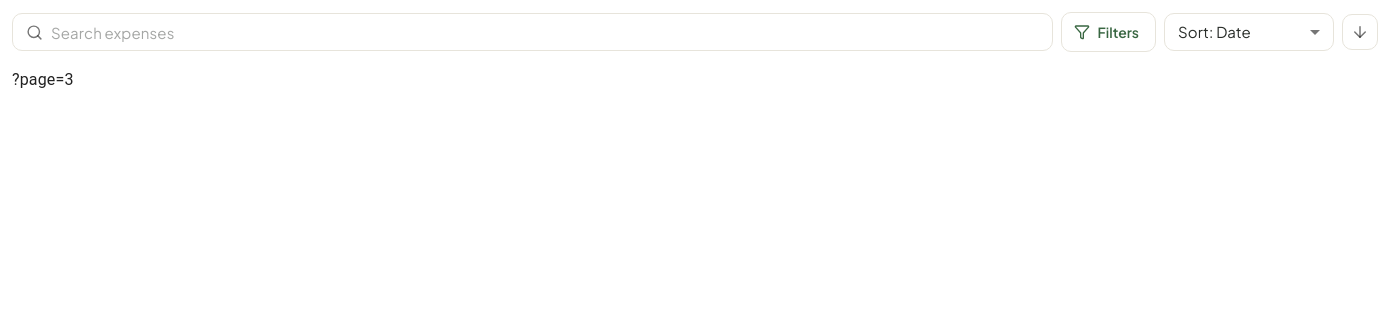
Test: ExpenseFilters › writes search and toggles into the URL and resets pagination
Step 1. Type "taxi" into the field labelled "Search expenses" → (552, 32), box [51, 13, 1053, 51]
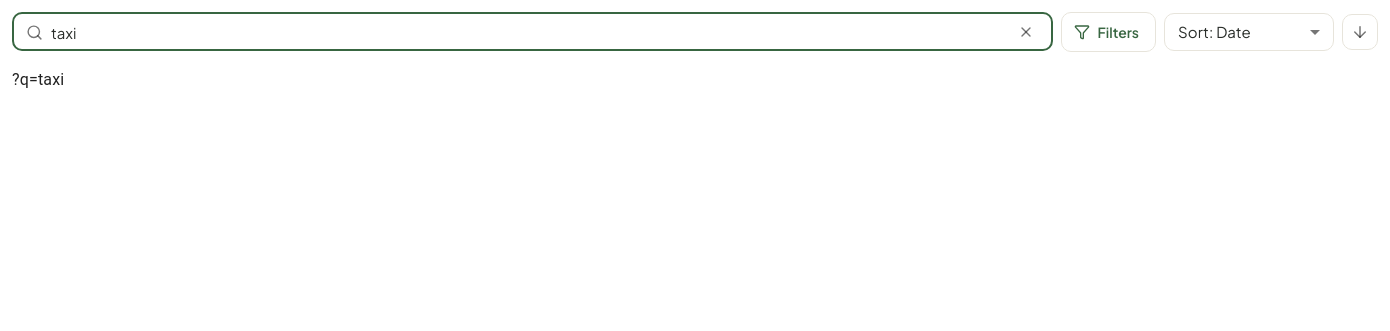
Expected: the text with test id "search" shows "q=taxi", [12, 70, 64, 89]
Expected: the text with test id "search" no longer shows "page=", [12, 70, 64, 89]
Step 2. Click the button "Filters" → (1108, 32), box [1061, 12, 1156, 52]
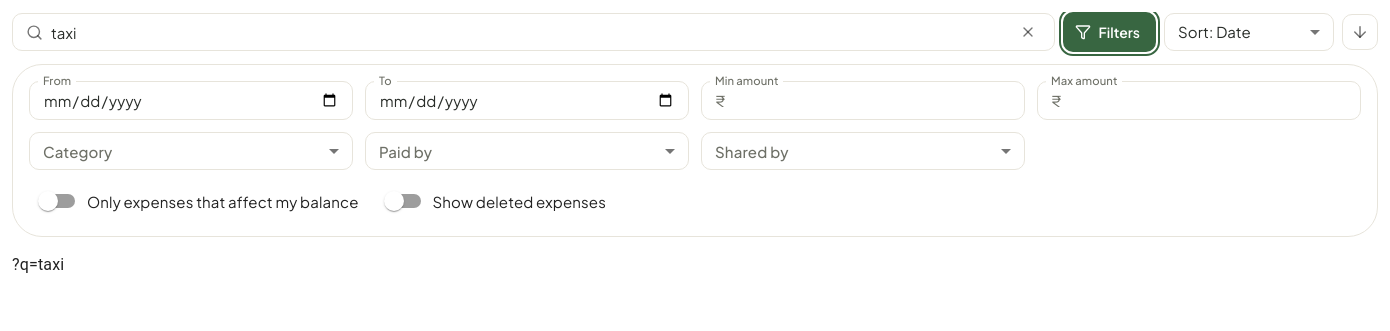
Step 3. Click the switch labelled "Show deleted expenses" → (495, 201), box [384, 191, 606, 211]
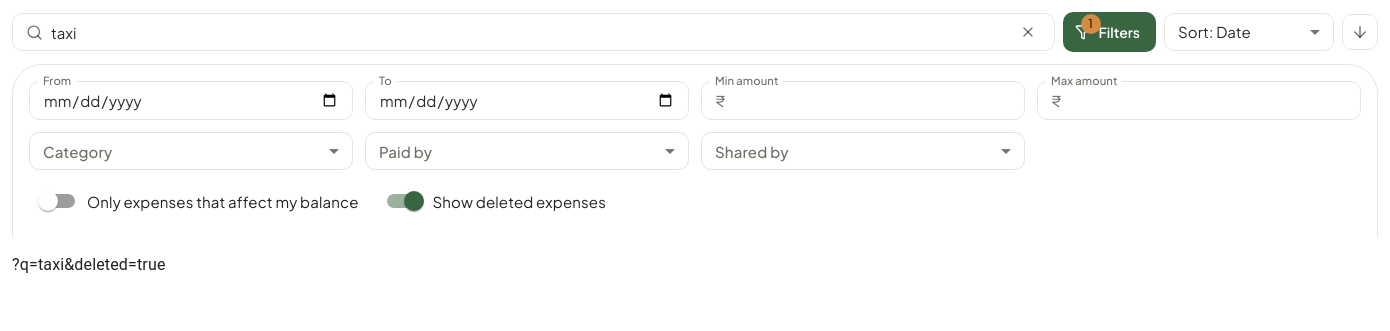
Expected: the text with test id "search" shows "deleted=true", [12, 255, 166, 274]
Step 4. Click the switch labelled "Only expenses that affect my balance" → (198, 201), box [38, 191, 358, 211]
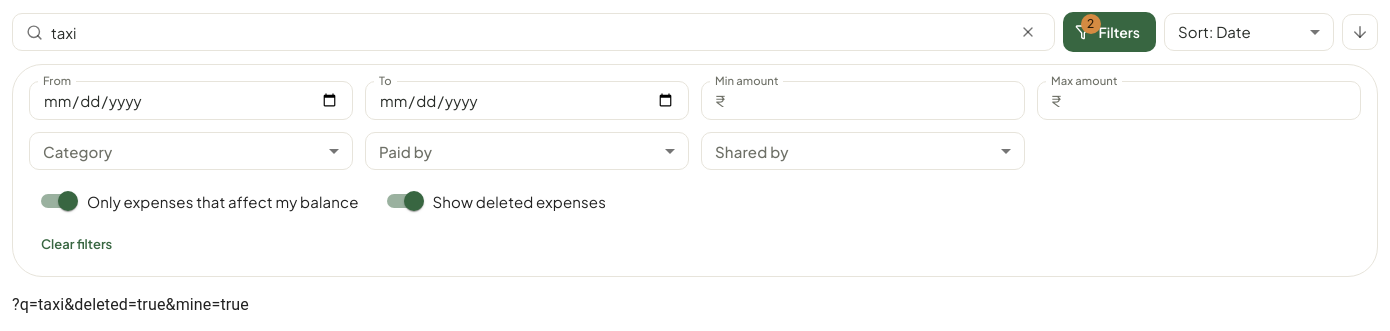
Expected: the text with test id "search" shows "mine=true", [12, 295, 249, 314]
Expected: the button with aria-label "Filters, 2 active" is shown, [1063, 12, 1156, 52]
Step 5. Click the button named "Sort descending" → (1360, 32), box [1342, 14, 1378, 50]
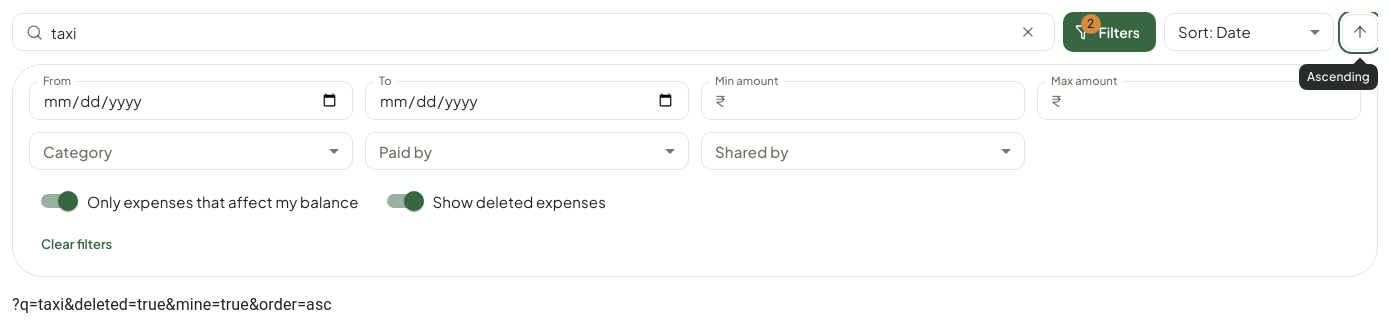
Expected: the text with test id "search" shows "order=asc", [12, 295, 332, 314]
